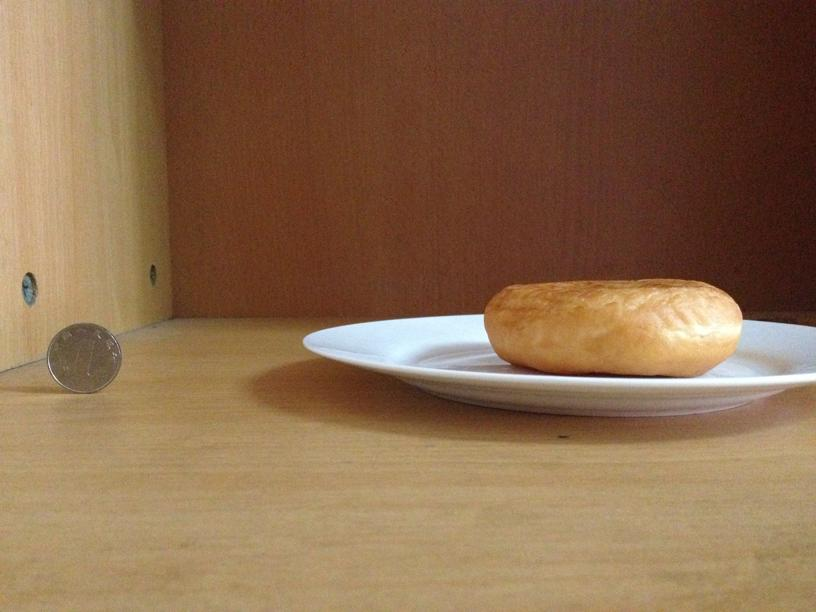coin: (44, 321, 120, 392)
doughnut: (484, 281, 742, 375)
